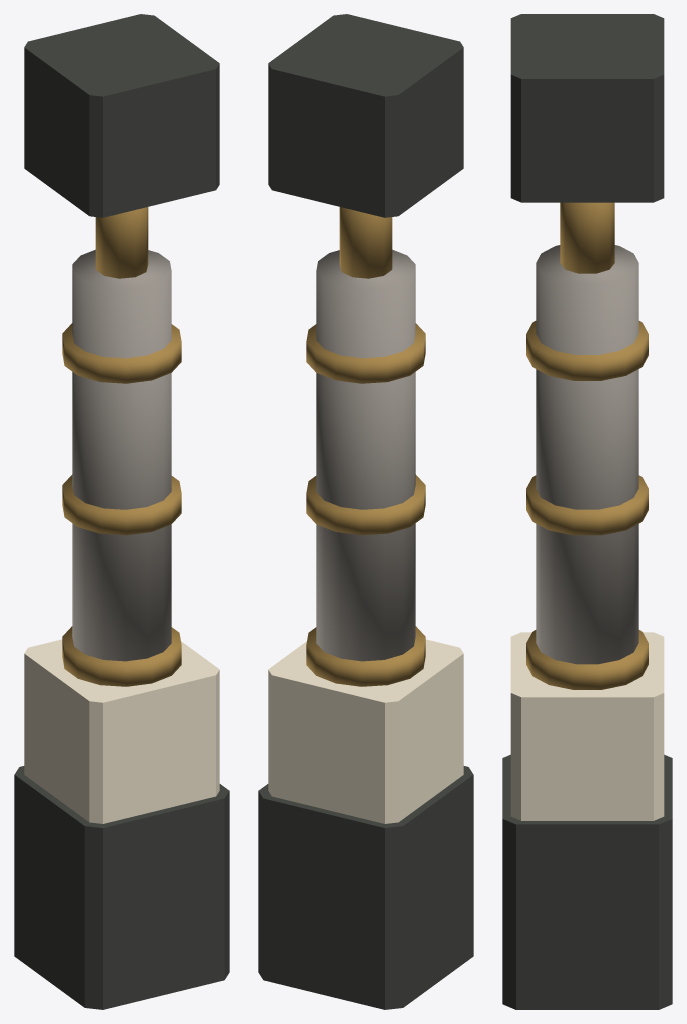
File: b3_piston.glb
3 renders of one model, left to right at view 1: azimuth 30°, elevation 25°; view 2: azimuth 150°, elevation 25°; view 3: azimuth 270°, elevation 25°, orthographic. The views are drawn at different scales.
Parts seen in each view (by area): view 1: b3_piston; view 2: b3_piston; view 3: b3_piston.
Boxes of the visible parts, left/top/right/bottom form: b3_piston: left=14, top=14, right=229, bottom=1009; b3_piston: left=258, top=14, right=473, bottom=1009; b3_piston: left=502, top=14, right=672, bottom=1009.
Size of the model in its own units: 1 by 6 by 1.
